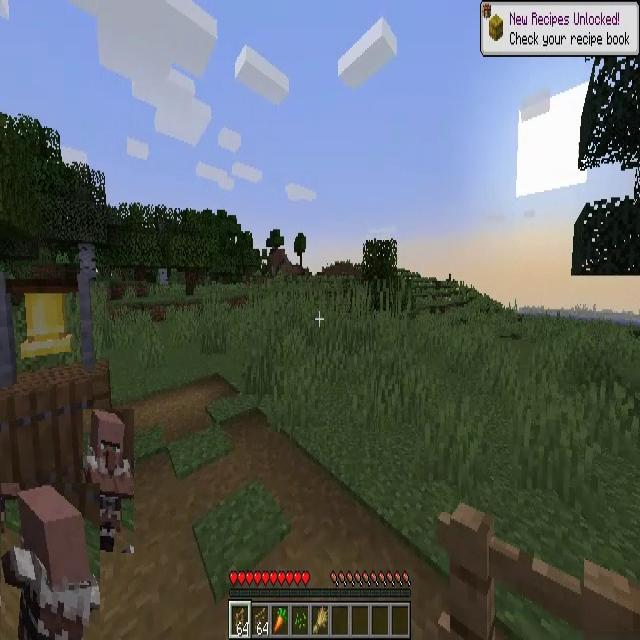people: (1, 483, 100, 640), (83, 409, 134, 554)
